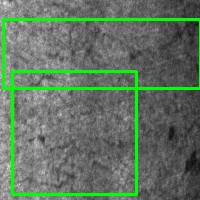crazing: (12, 71, 136, 194), (3, 19, 200, 88)
